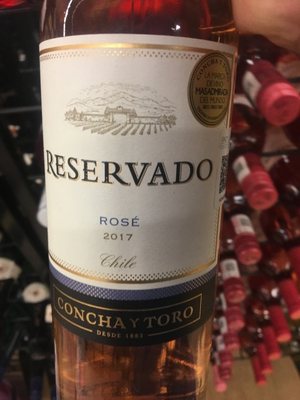reservado rose: (39, 18, 234, 400)
